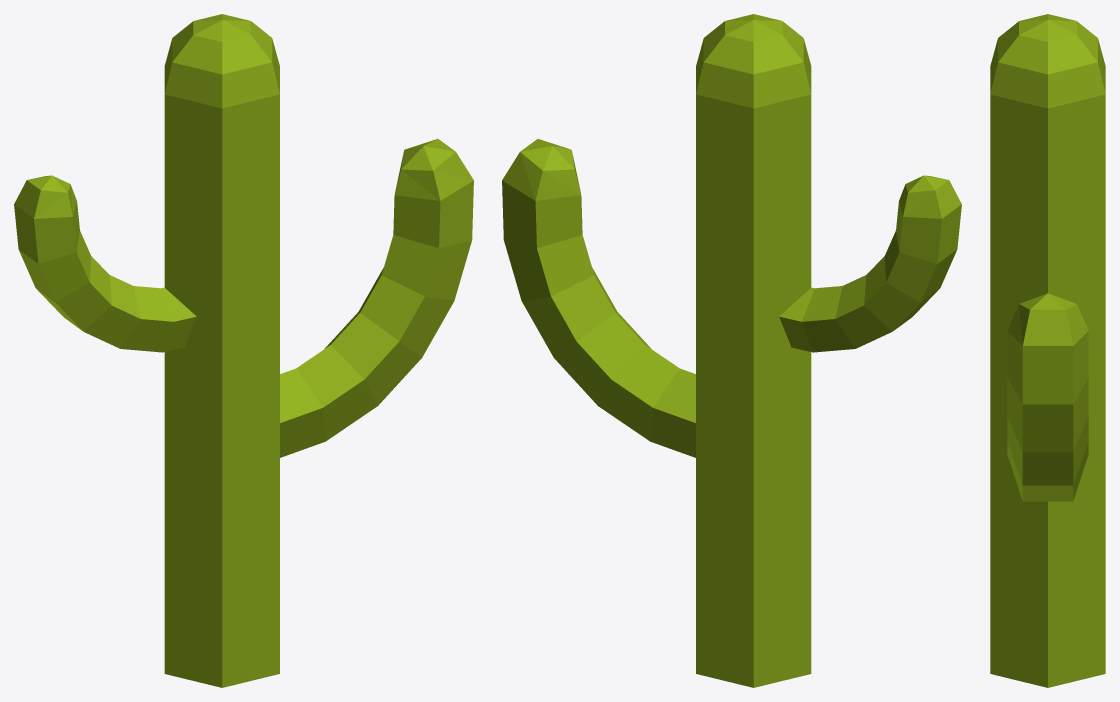
Rendered from Vegetation_Cactus_15.fbx.
3 views of the same model, side by side, from view 1: azimuth 30°, elevation 25°; view 2: azimuth 150°, elevation 25°; view 3: azimuth 270°, elevation 25° (orthographic).
Parts seen in each view (by area): view 1: Vegetation_Cactus_15; view 2: Vegetation_Cactus_15; view 3: Vegetation_Cactus_15.
Part boxes in pixels (x1,y1,x2,y2): Vegetation_Cactus_15: (14, 14, 473, 687); Vegetation_Cactus_15: (502, 14, 961, 687); Vegetation_Cactus_15: (990, 14, 1105, 687).
Size of the model in its own units: 1479 by 2068 by 338.
